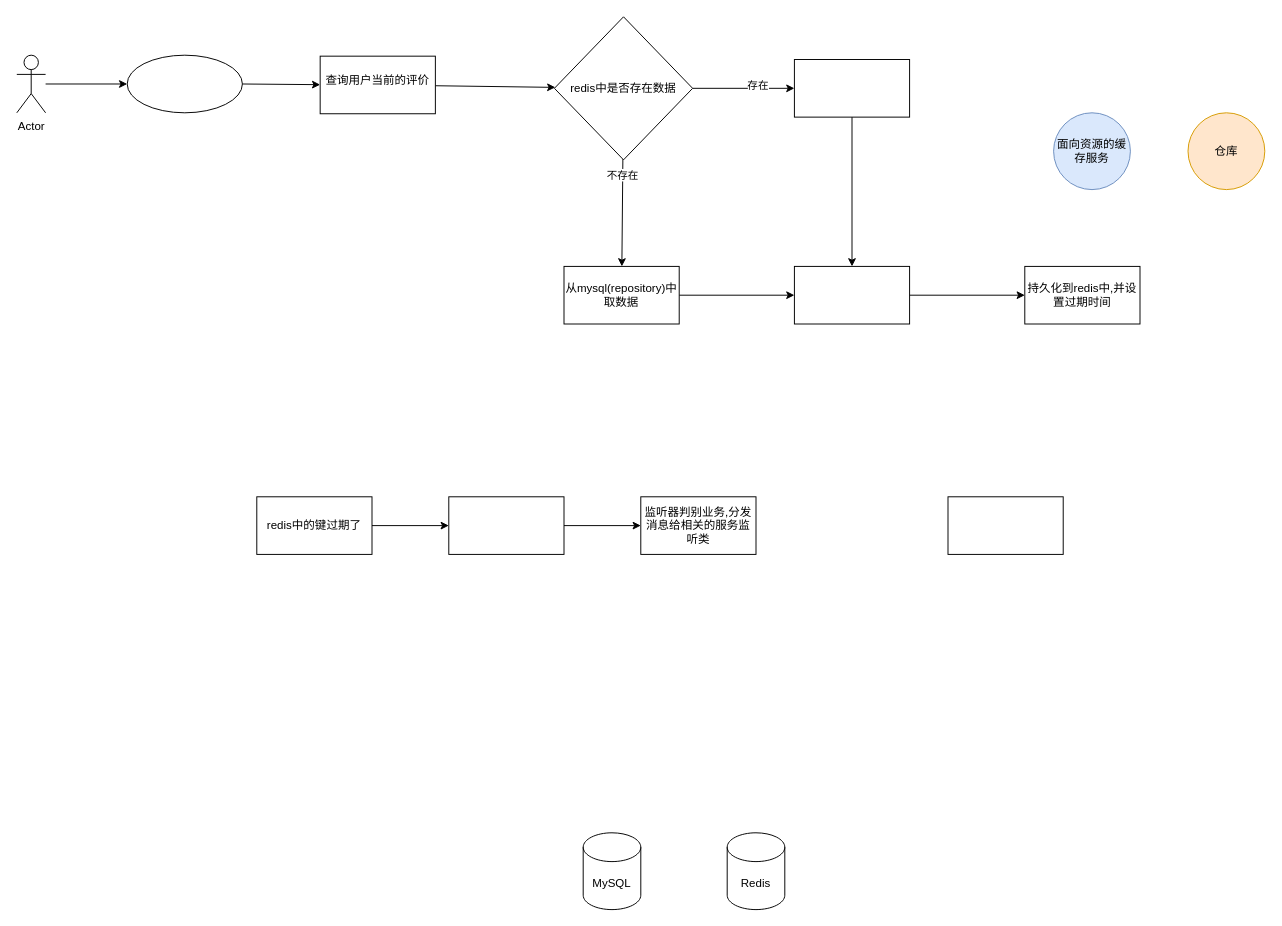
The diagram is 1282 pixels wide and 926 high, and some of its shapes have lost their labels. The shapes that lost their labels are listed below. From the top down, each one's centre as x and y in pixels, then its label:
[184,83]: 开始业务
[851,88]: 从redis中取数据
[851,294]: 根据业务需求修改数据的状态
[506,525]: 发送消息给Listener(监听器)
[1005,525]: 同步redis的数据到mysql中
